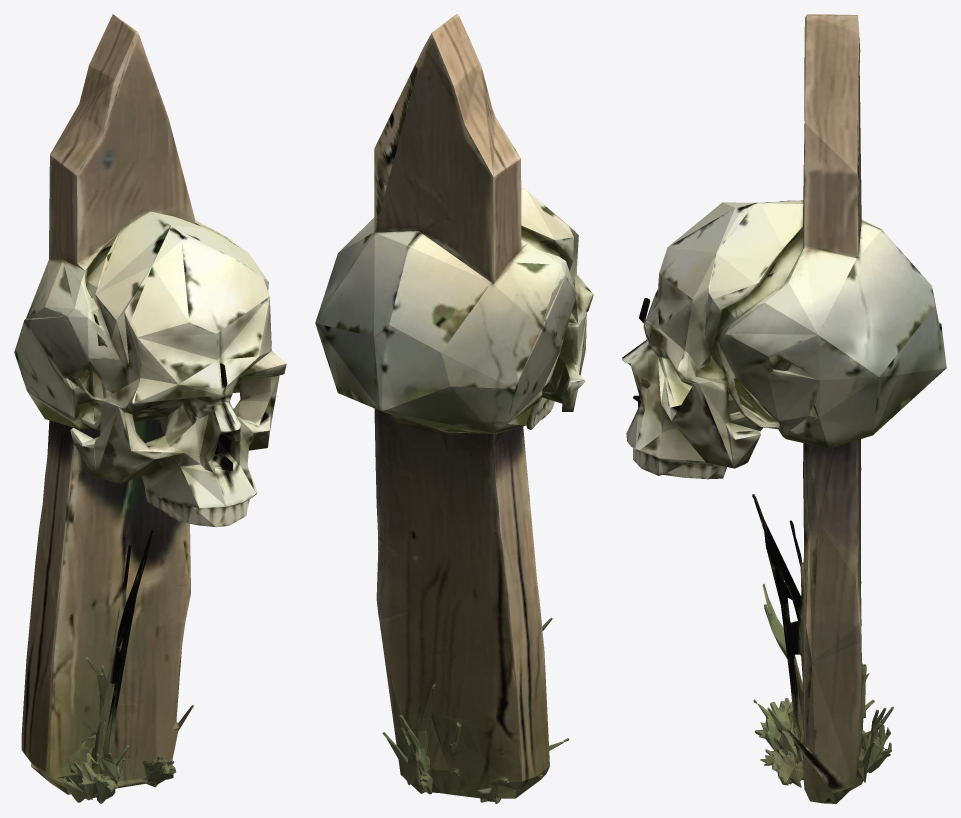
File: combat_skull_stake_01.glb
3 renders of one model, left to right at view 1: azimuth 30°, elevation 25°; view 2: azimuth 150°, elevation 25°; view 3: azimuth 270°, elevation 25°, orthographic. The views are drawn at different scales.
Visible parts, largest first — view 1: geometry_0; view 2: geometry_0; view 3: geometry_0.
Part boxes in pixels (left/top/right/bottom): geometry_0: left=14, top=14, right=286, bottom=803; geometry_0: left=315, top=14, right=593, bottom=803; geometry_0: left=622, top=14, right=946, bottom=803.
Bounding box in the file's own units: 0.2896 × 0.9983 × 0.3768.
1 material, 1 textured.
